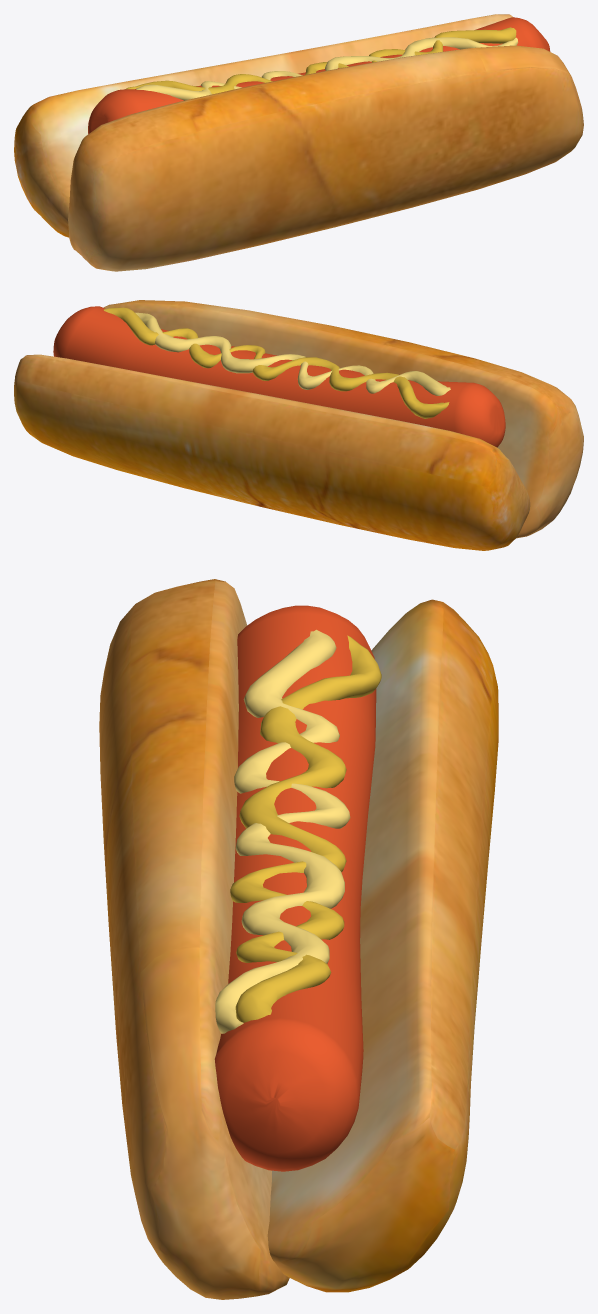
The model's file is pancho.glb.
3 renders of one model, top to bottom at view 1: azimuth 30°, elevation 25°; view 2: azimuth 150°, elevation 25°; view 3: azimuth 270°, elevation 25°, orthographic. The views are drawn at different scales.
Visible parts, largest first — view 1: pancho; view 2: pancho; view 3: pancho.
Boxes of the visible parts, x1,y1,x2,y2 form: pancho: [14, 14, 583, 271]; pancho: [14, 300, 583, 550]; pancho: [99, 579, 498, 1299].
Bounding box in the file's own units: 21.1 × 6.5 × 7.3.
Materials: 5 (2 with a texture image).
